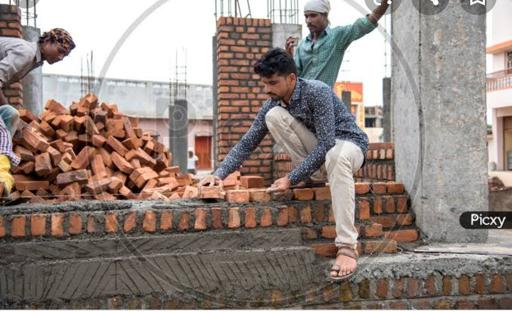unsafe person: (215, 42, 401, 281)
